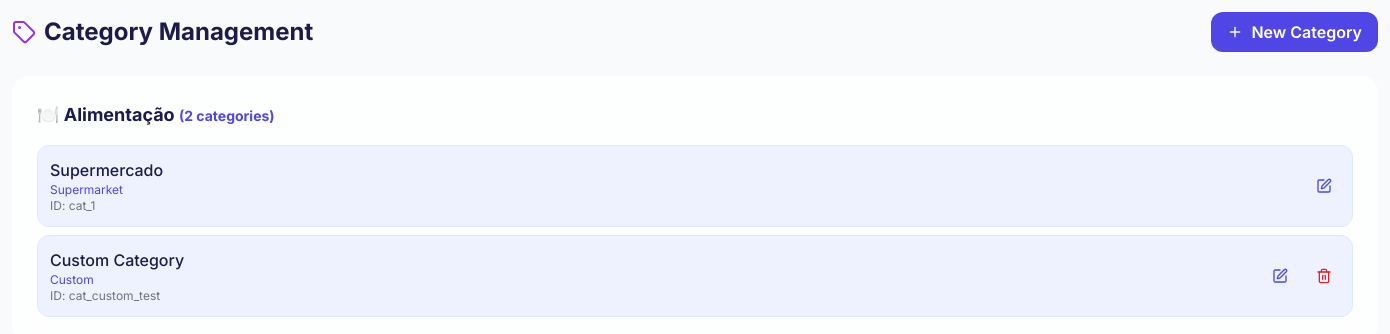
Scenario: Bug #3: Category Management Feature › should enable edit mode when clicking edit button
The image size is (1390, 334).
# Find and click edit button (first one)
Click the button titled "Edit" in the row of "Supermercado": (1324, 186) [1308,170,1340,202]
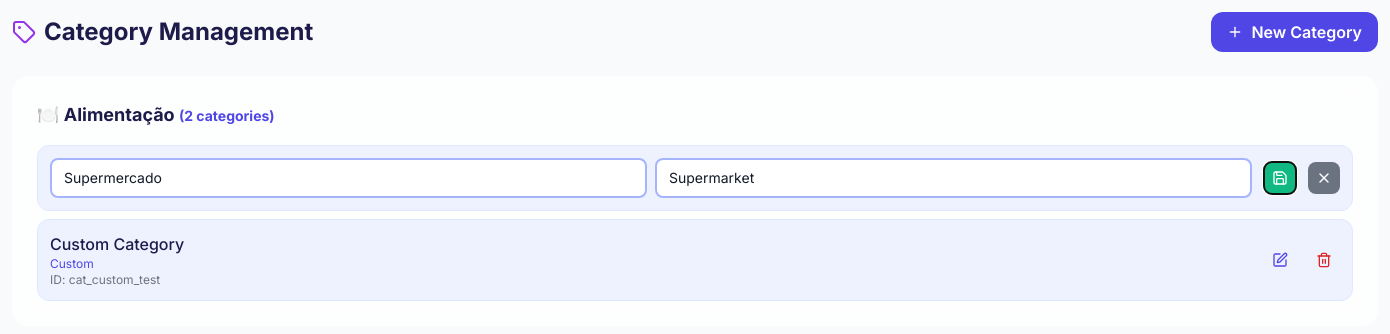
Now the 1st field with placeholder "Portuguese name" is shown, box [50,158,647,198]
Now the 2nd field with placeholder "English name" is shown, box [655,158,1252,198]
